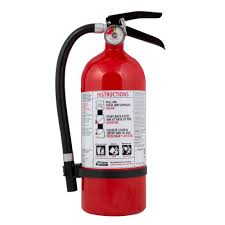fire: (55, 11, 166, 216)
